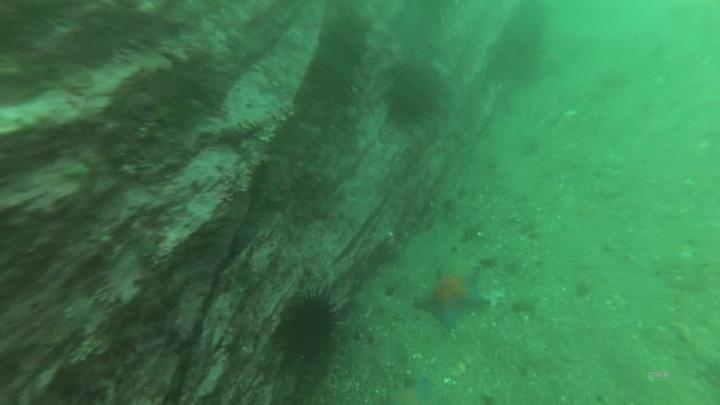echinus: (274, 287, 346, 364), (380, 57, 447, 130)
starfish: (412, 262, 492, 332), (383, 374, 436, 403)
